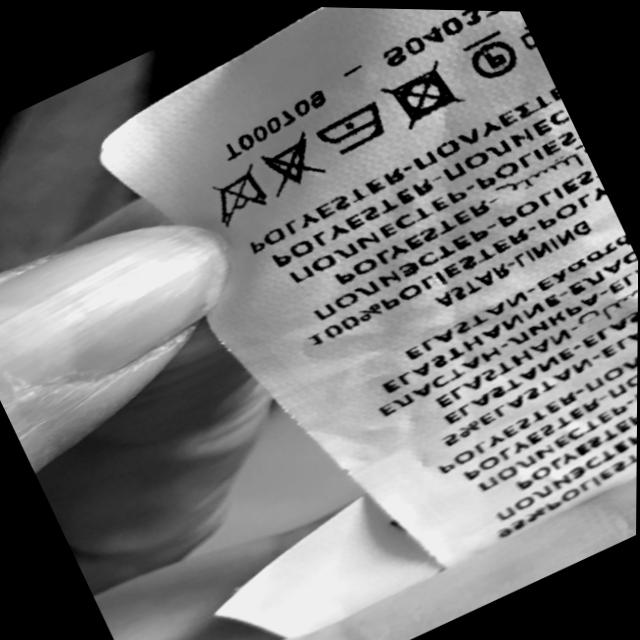DN_bleach: (265, 134, 319, 193)
DN_tumble_dry: (389, 62, 463, 130)
DN_wash: (213, 164, 268, 223)
dry_clean_any_solvent_except_trichloroethylene: (467, 31, 518, 85)
iron_low: (315, 100, 389, 157)
